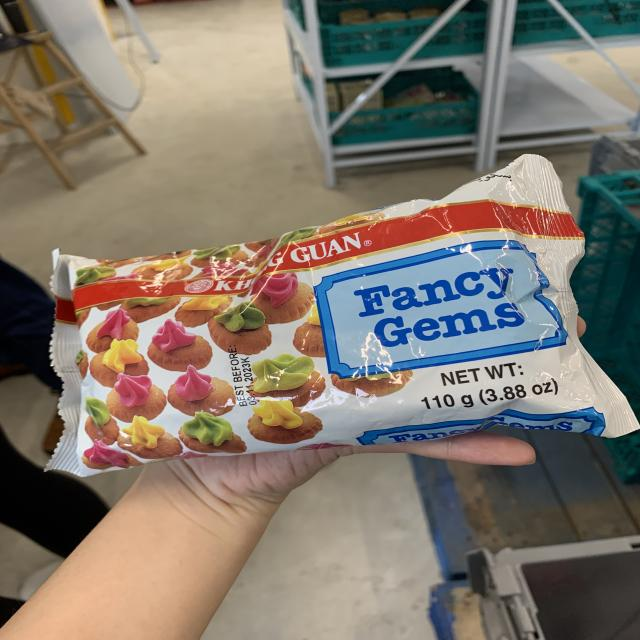object_name: (45, 208, 608, 440)
